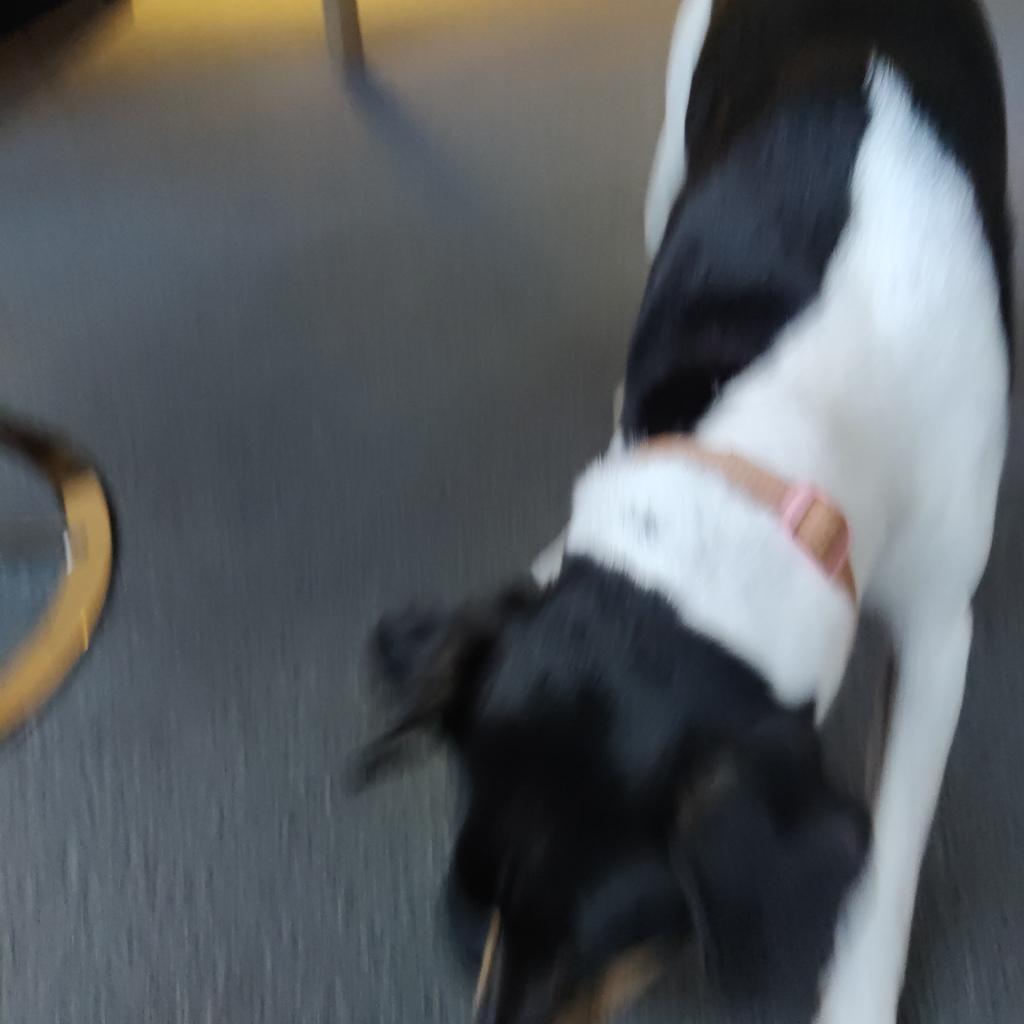Dog: (310, 0, 1024, 1024)
